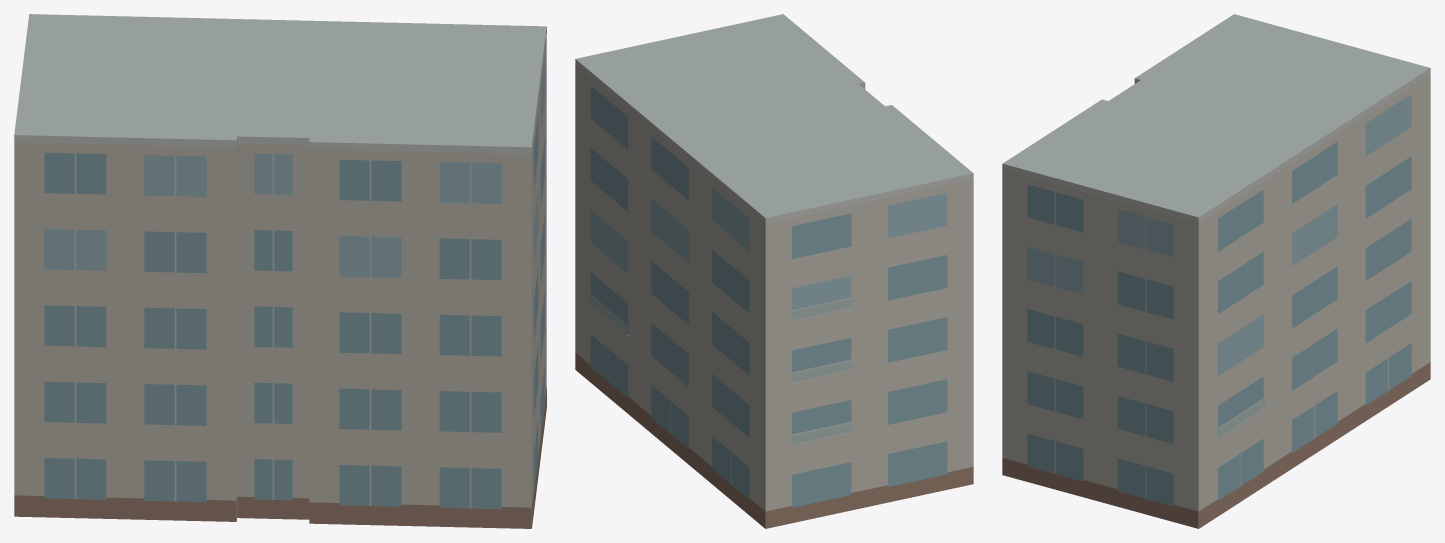
File: survey-upis-32791837.glb
3 renders of one model, left to right at view 1: azimuth 30°, elevation 25°; view 2: azimuth 150°, elevation 25°; view 3: azimuth 270°, elevation 25°, orthographic. The views are drawn at different scales.
Parts seen in each view (by area): view 1: survey-upis-32791837.tmp; view 2: survey-upis-32791837.tmp; view 3: survey-upis-32791837.tmp.
Part boxes in pixels (x1,y1,x2,y2): survey-upis-32791837.tmp: (14,14,546,528); survey-upis-32791837.tmp: (575,14,973,528); survey-upis-32791837.tmp: (1002,14,1430,528).
Size of the model in its own units: 18.5 by 13.2 by 16.45.
